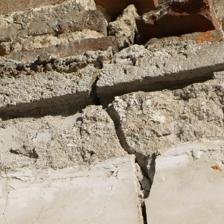Crack: (55, 61, 171, 224), (6, 6, 83, 58)
